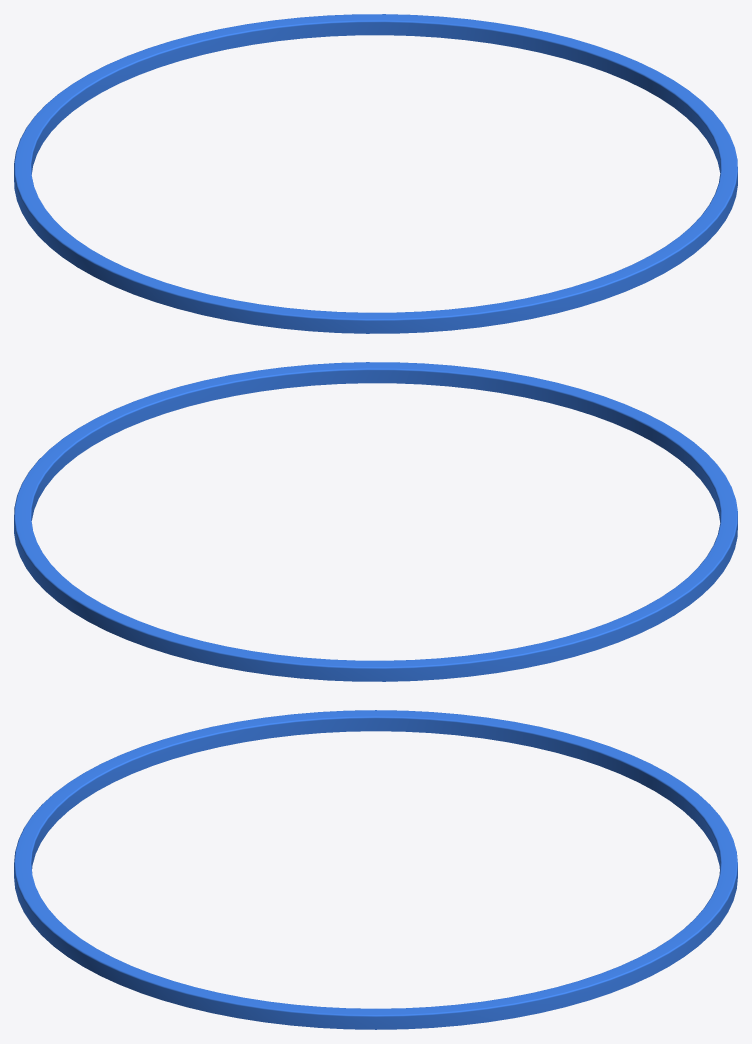
Rendered from sand_tray.glb.
The picture shows the model from 3 angles, top to bottom: view 1: azimuth 30°, elevation 25°; view 2: azimuth 150°, elevation 25°; view 3: azimuth 270°, elevation 25°; orthographic projection.
Parts seen in each view (by area): view 1: sand_tray.001; view 2: sand_tray.001; view 3: sand_tray.001.
Boxes of the visible parts, left/top/right/bottom form: sand_tray.001: left=14, top=14, right=737, bottom=333; sand_tray.001: left=14, top=362, right=737, bottom=681; sand_tray.001: left=14, top=710, right=737, bottom=1029.
Bounding box in the file's own units: 33.2 × 0.72 × 33.2.
